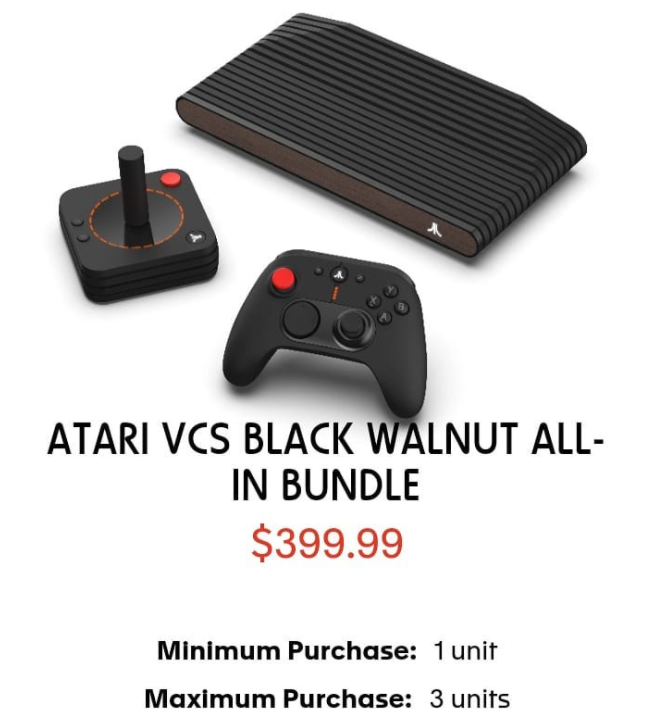gamingconsole: (226, 248, 428, 419)
